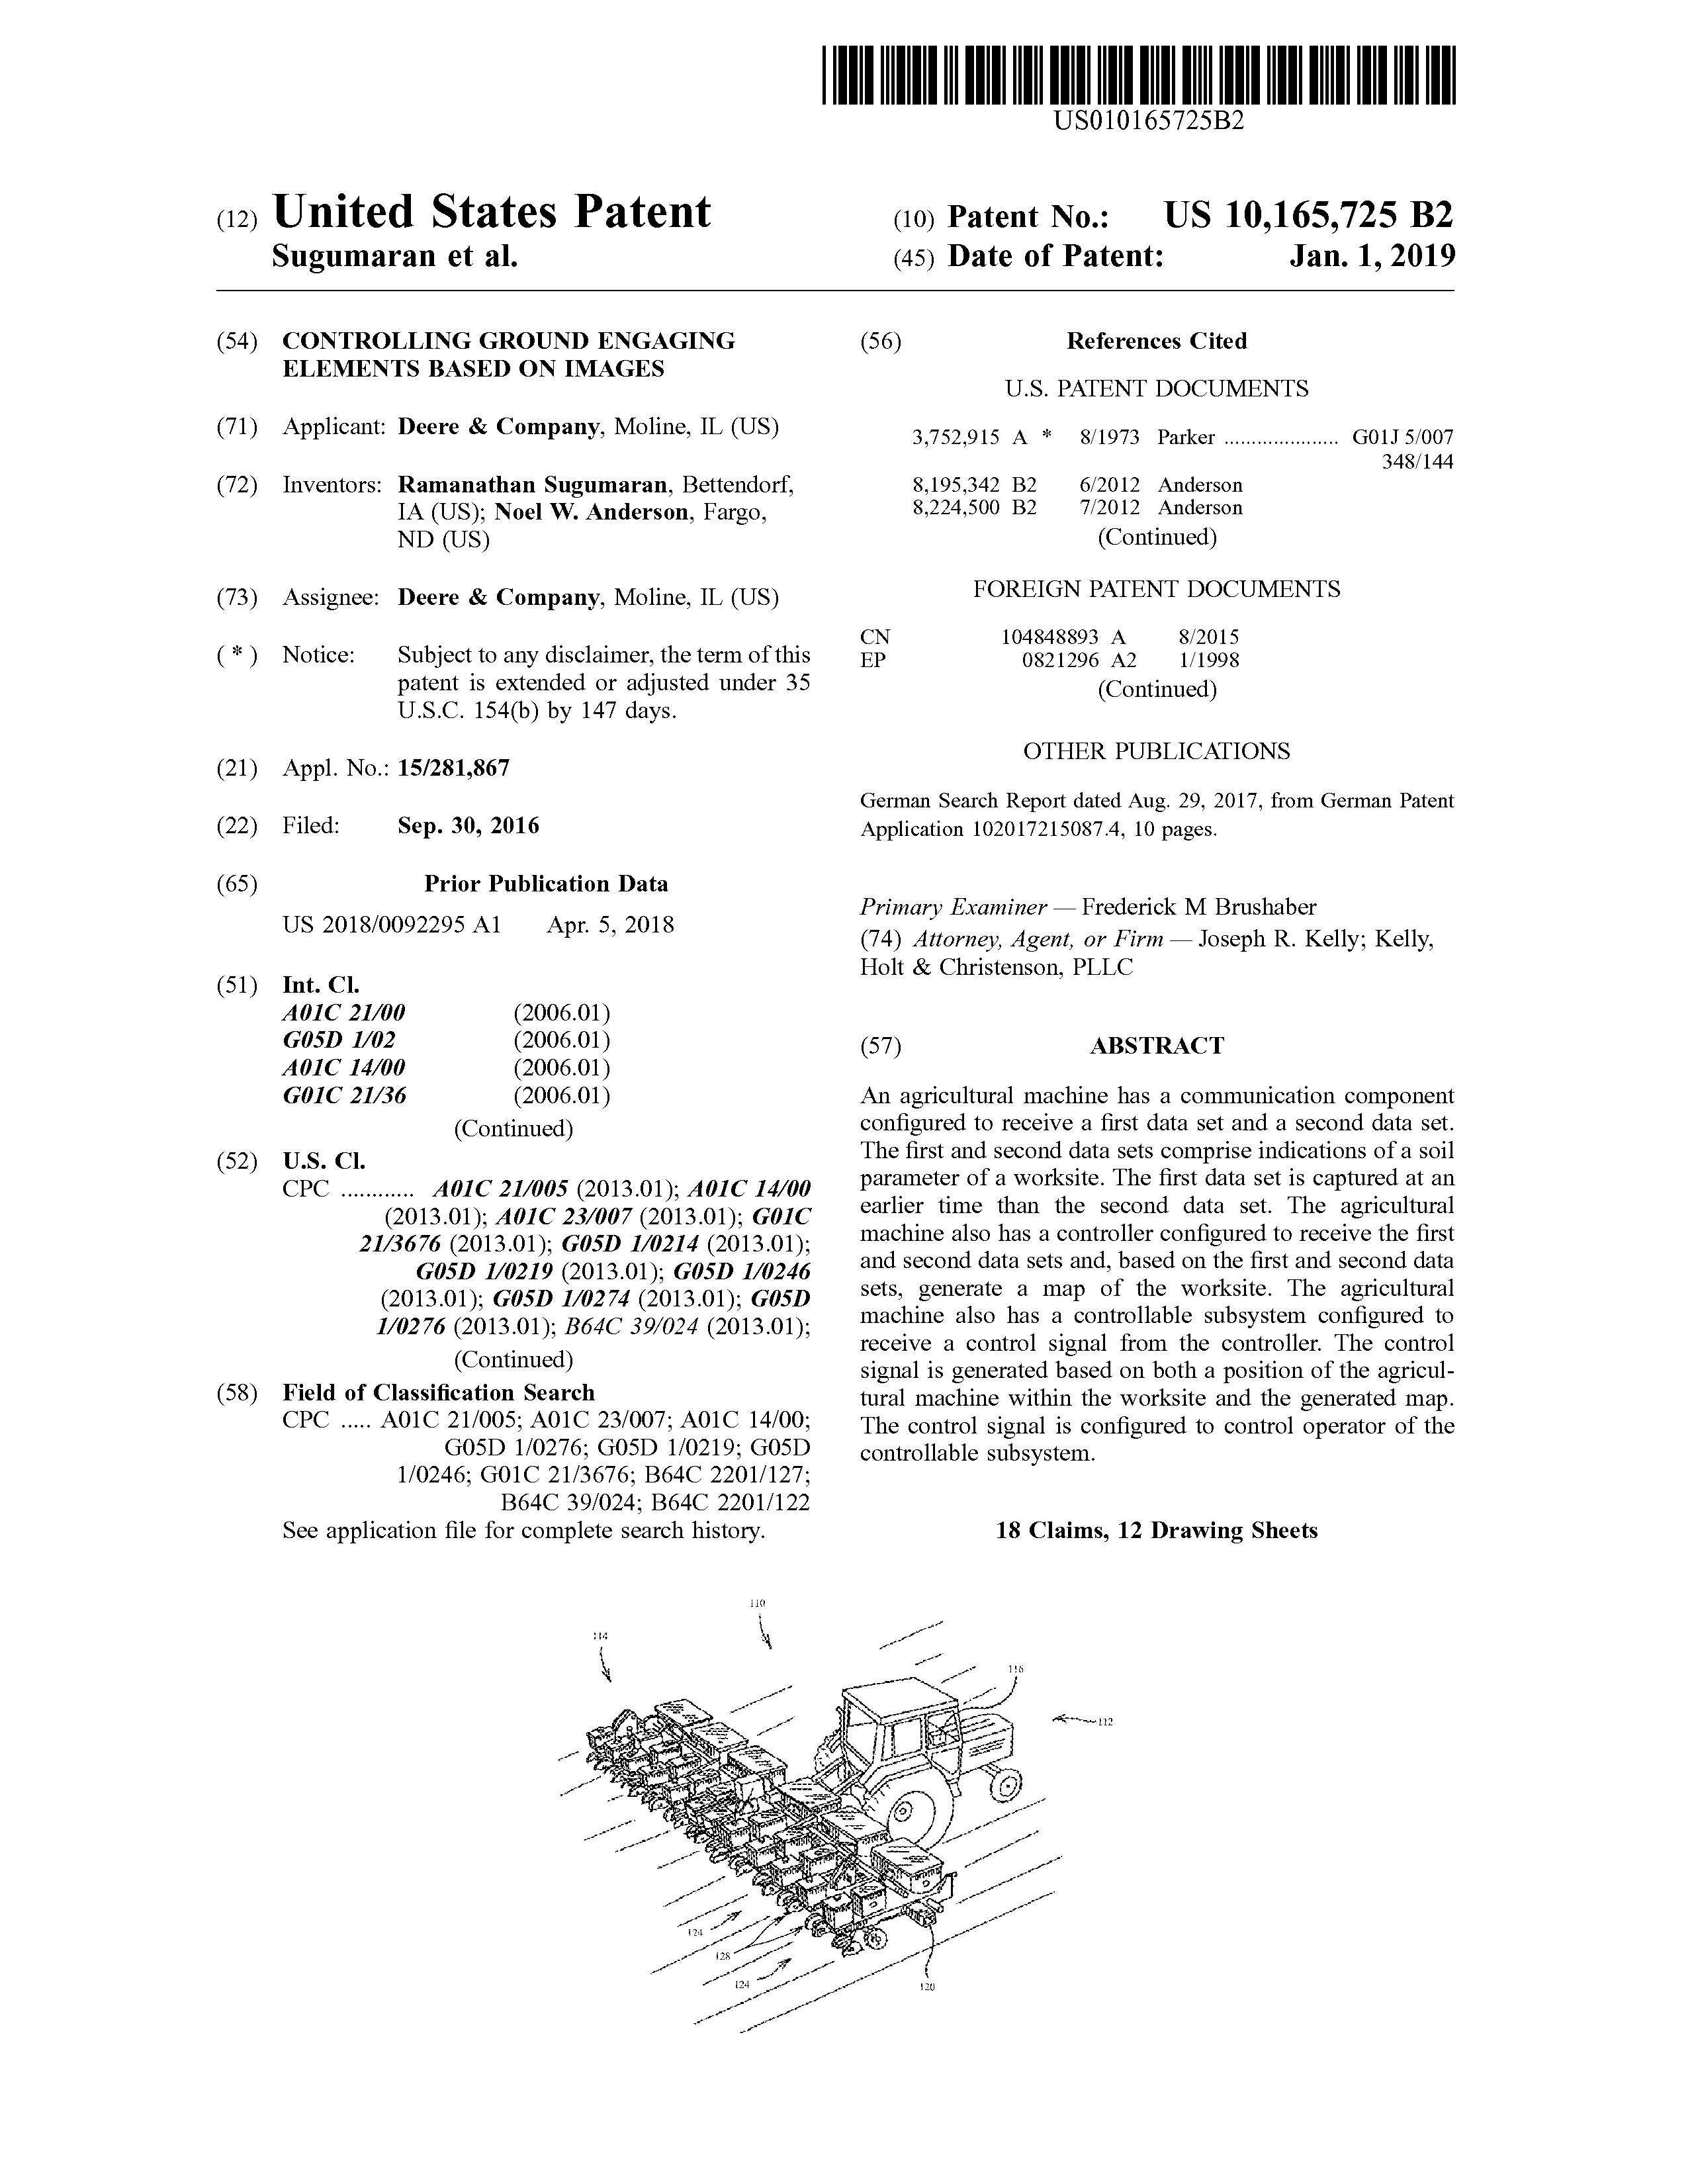patent image: (523, 1582, 1199, 2043)
